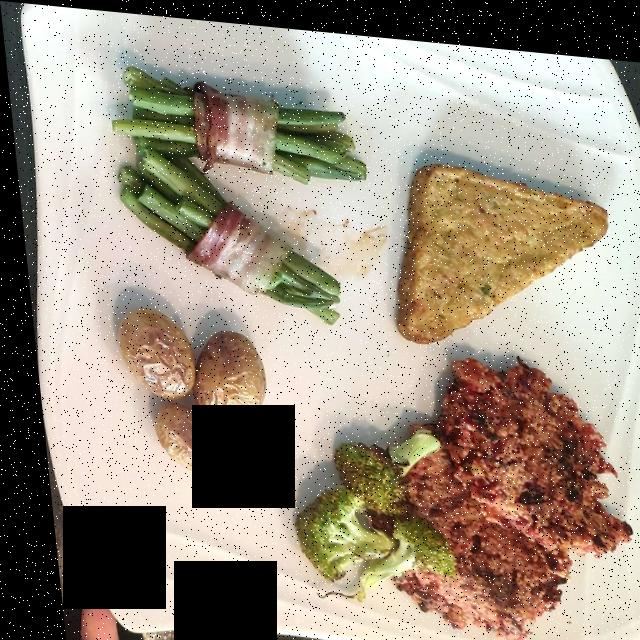bacon-frying: (180, 81, 289, 299)
baked-potato: (110, 302, 258, 466)
broccoli: (287, 417, 435, 589)
french-beans: (118, 70, 358, 317)
